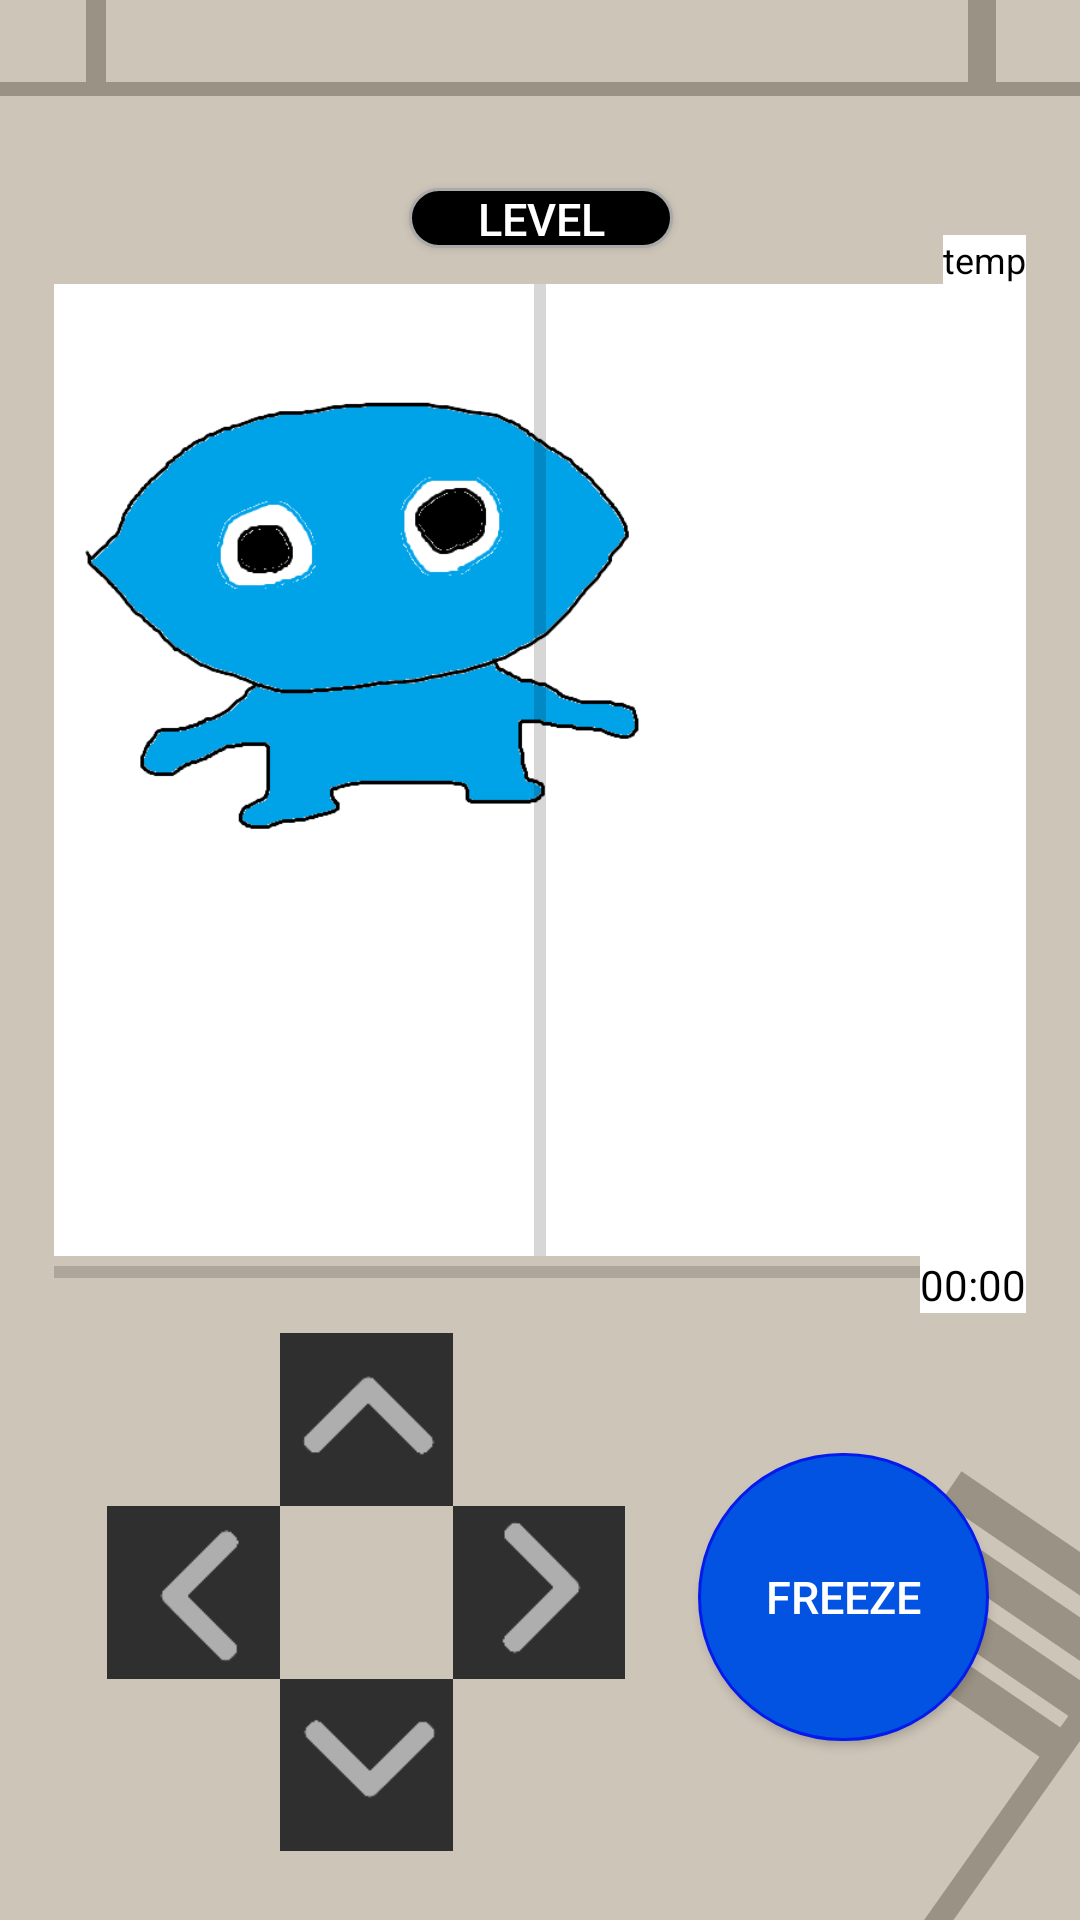

Locate icon controls on the screen. Image size 1080*1920, boxes as (x1, y1, x2, y2).
arrowkey down: (280, 1679, 453, 1851)
arrowkey left: (107, 1506, 280, 1679)
arrowkey right: (453, 1506, 625, 1679)
arrowkey up: (280, 1333, 453, 1506)
